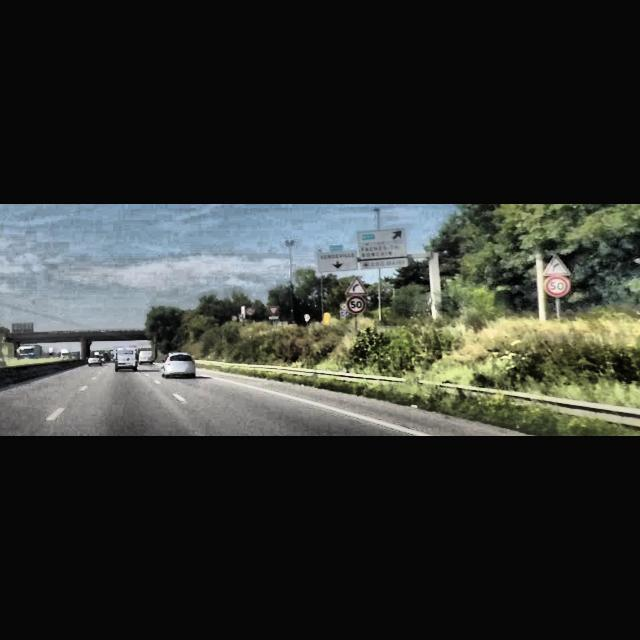speed_50: (545, 276, 570, 297), (347, 296, 366, 314)
